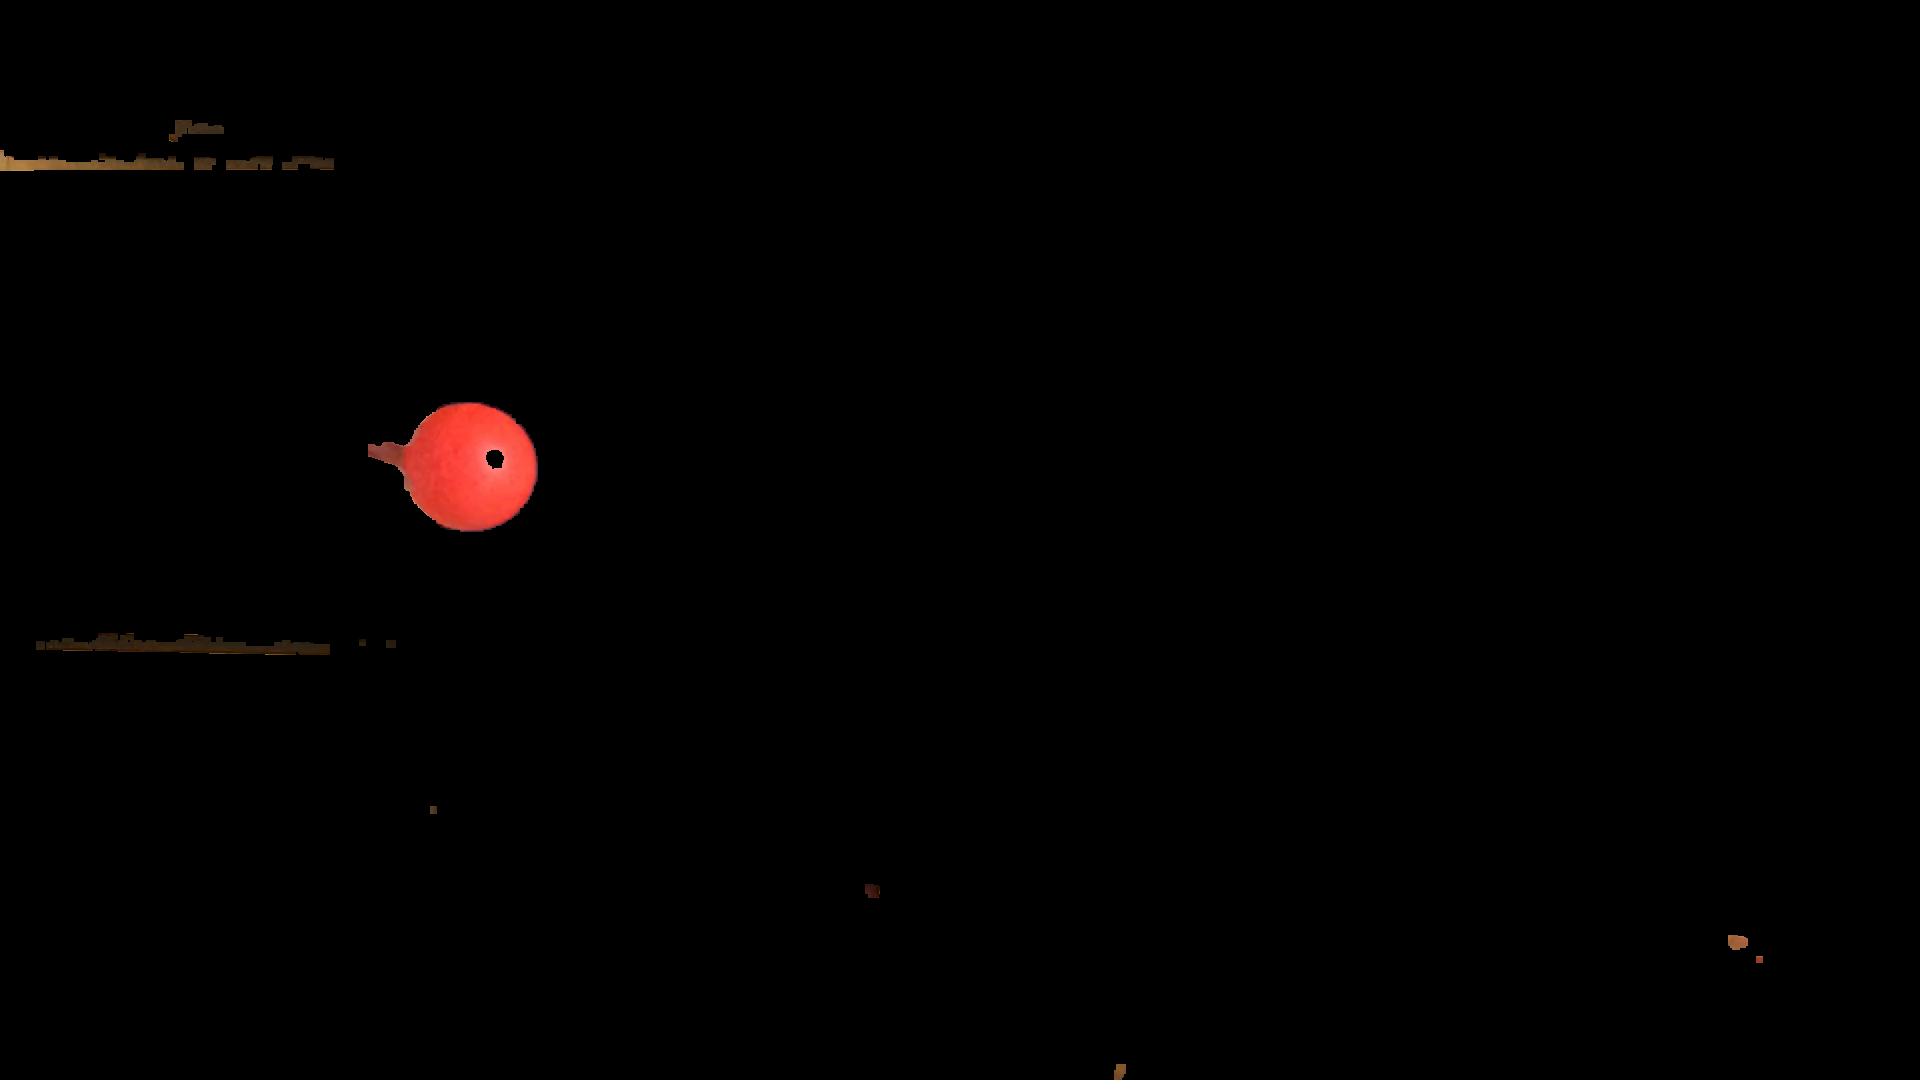Ball: (407, 404, 541, 533)
